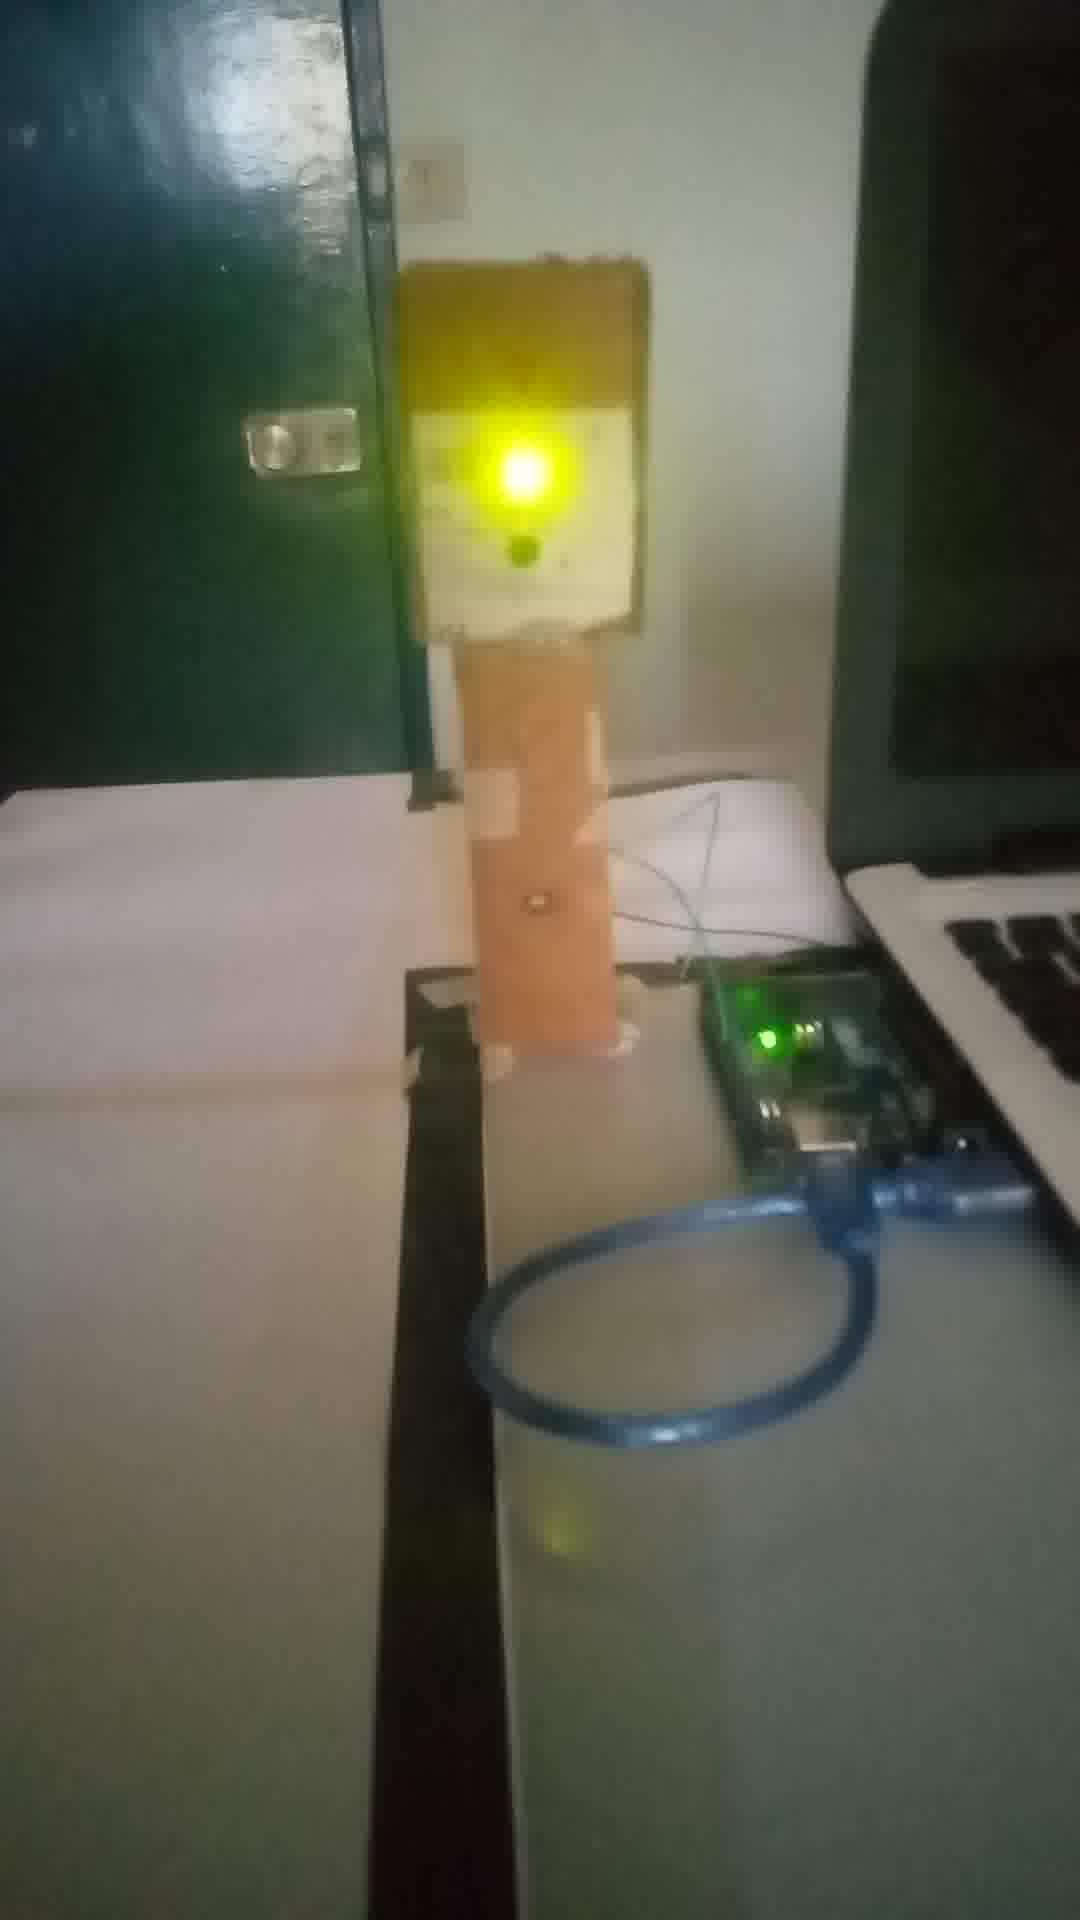yellow: (404, 289, 641, 622)
